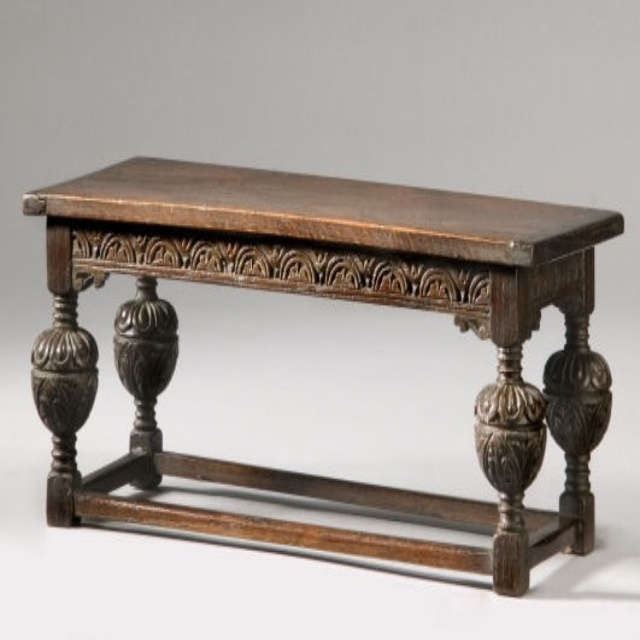obstacle: (23, 158, 622, 593)
